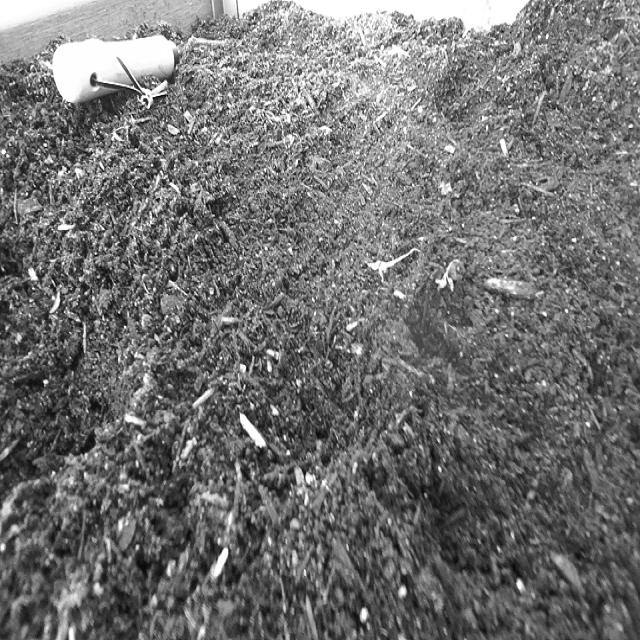Unhealthy: (363, 244, 422, 286), (433, 254, 465, 298)
